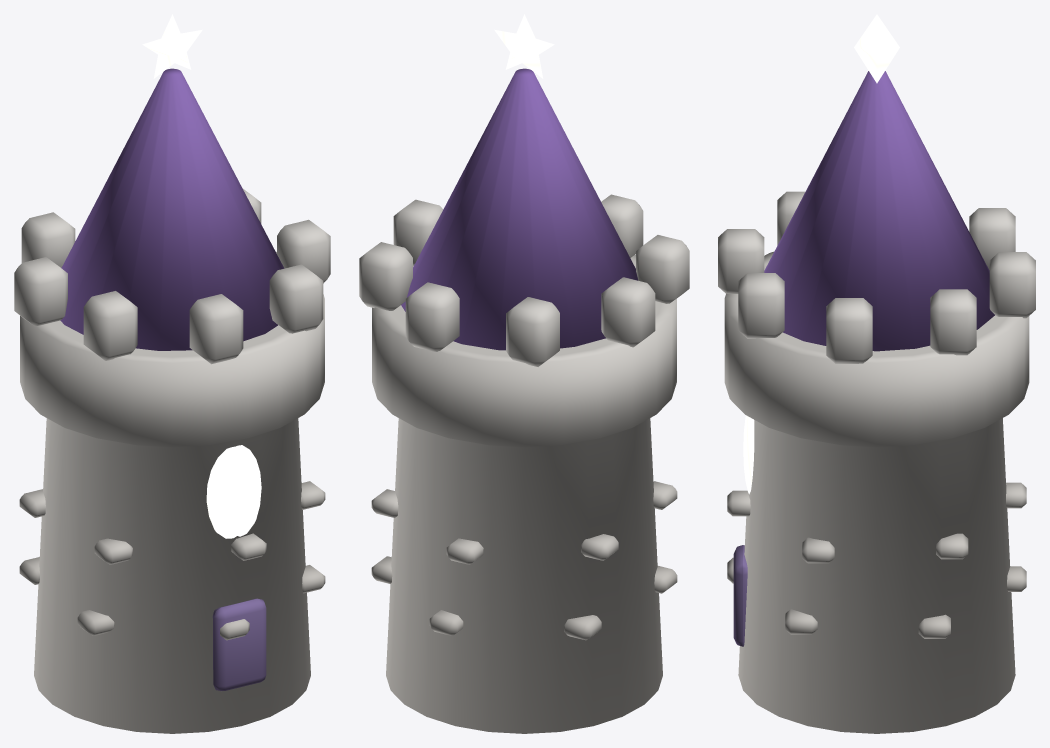
File: part_tower.glb
3 views of the same model, side by side, from view 1: azimuth 30°, elevation 25°; view 2: azimuth 150°, elevation 25°; view 3: azimuth 270°, elevation 25° (orthographic).
Visible parts, largest first — view 1: part_tower_painted_mesh; view 2: part_tower_painted_mesh; view 3: part_tower_painted_mesh.
Boxes of the visible parts, x1,y1,x2,y2 form: part_tower_painted_mesh: (14, 14, 330, 733); part_tower_painted_mesh: (359, 14, 689, 733); part_tower_painted_mesh: (718, 14, 1035, 733).
Bounding box in the file's own units: 0.688 × 1.58 × 0.688.
